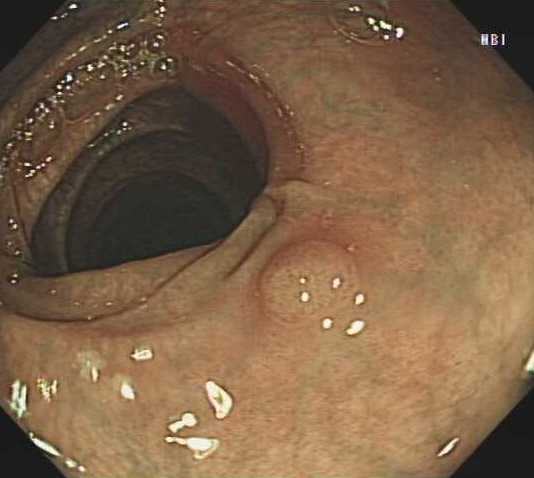adenoma: (253, 236, 362, 326)
